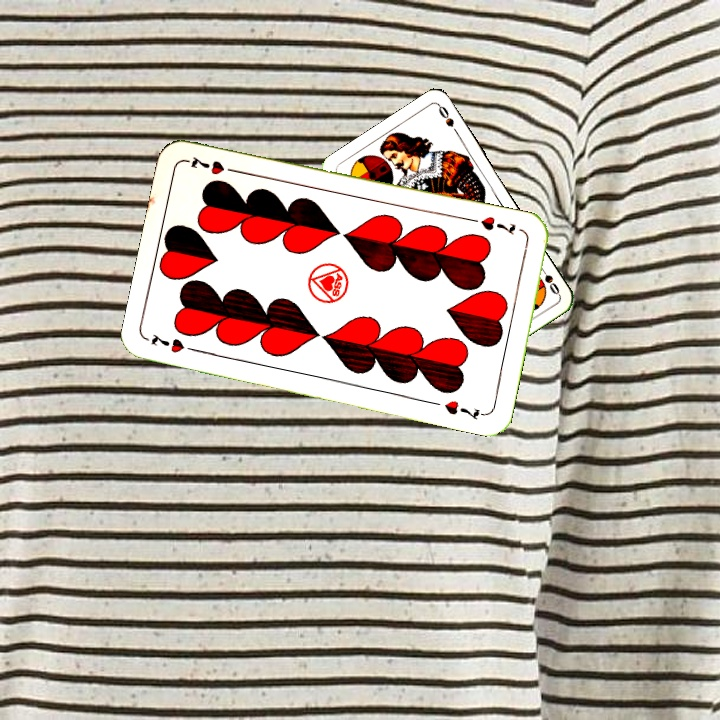H7: (147, 330, 203, 356), (466, 212, 518, 238)
SO: (535, 261, 562, 297)
